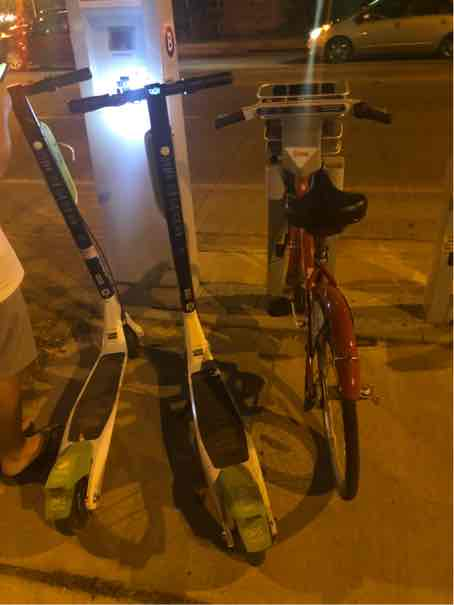scooter: (69, 65, 278, 563), (9, 59, 147, 537)
